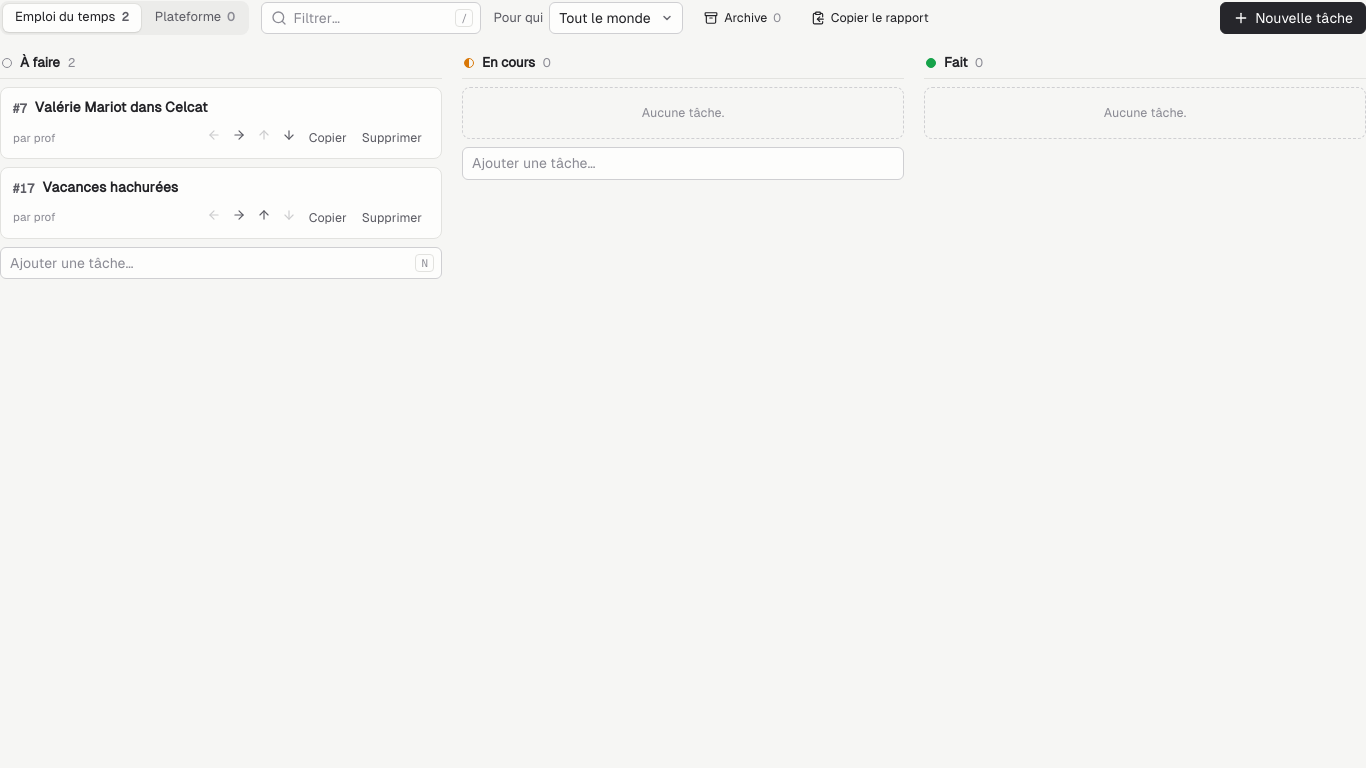
it: KanbanView › shows the task number on each card and finds a card by #number
The image size is (1366, 768).
Check: the button "Valérie Mariot dans Celcat" is shown, box x1=35 y1=98 x2=429 y2=117
Check: the text named "Tâche numéro 7" reads "#7", box x1=13 y1=98 x2=27 y2=120
Type "#7" into the search field named "Filtrer les tâches" at (372, 18), box x1=262 y1=2 x2=482 y2=34
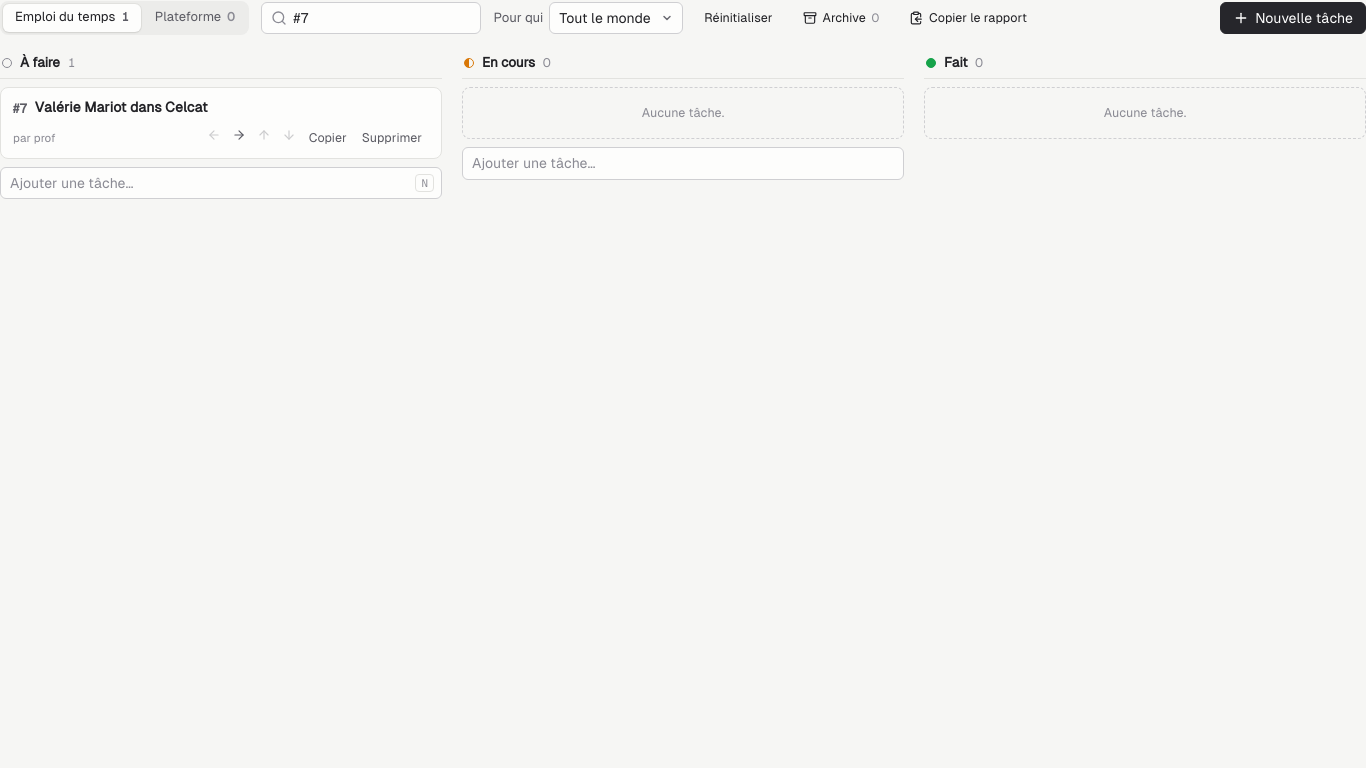
Check: the button "Valérie Mariot dans Celcat" is shown, box x1=35 y1=98 x2=429 y2=117
Check: the button "Vacances hachurées" is gone
Clear the search field named "Filtrer les tâches" at (372, 18), box x1=262 y1=2 x2=482 y2=34
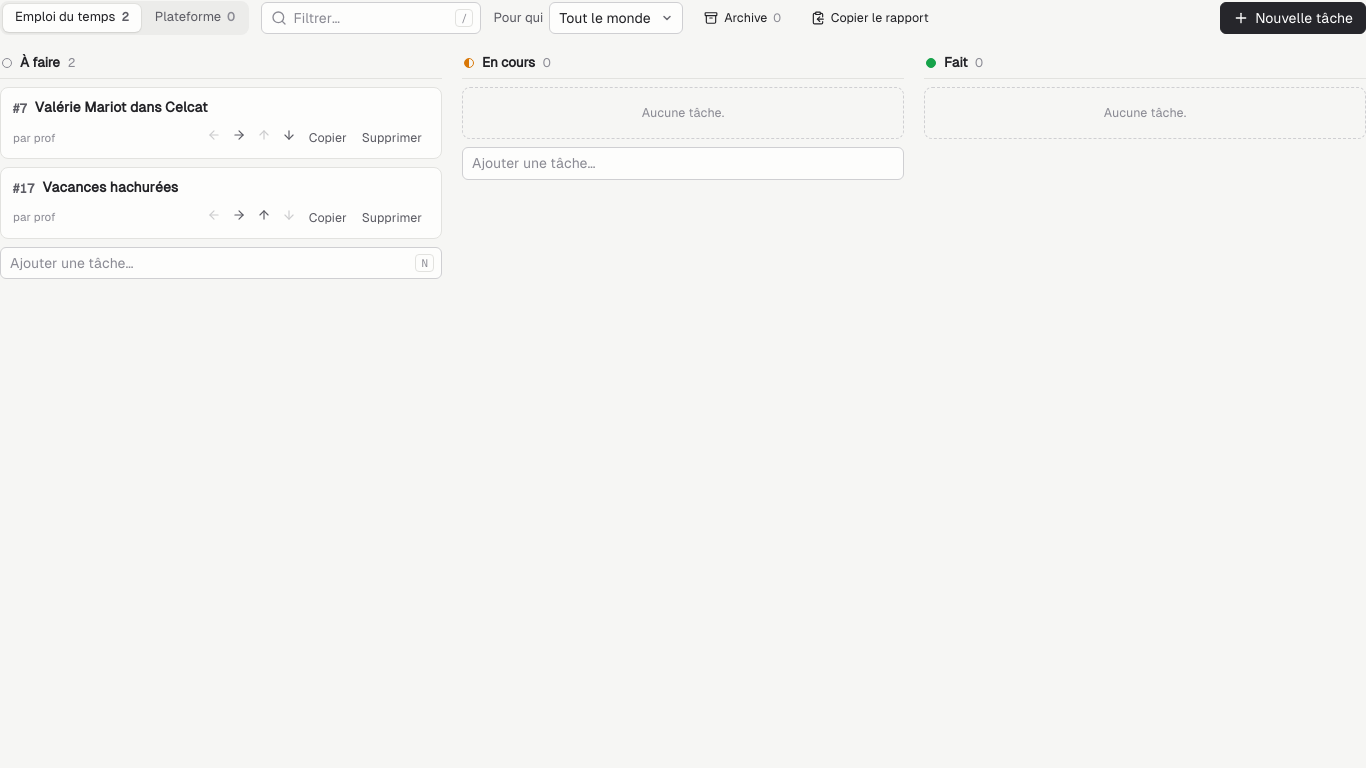
Click the button with aria-label "Modifier « Vacances hachurées »" at (110, 187), box x1=42 y1=178 x2=429 y2=197
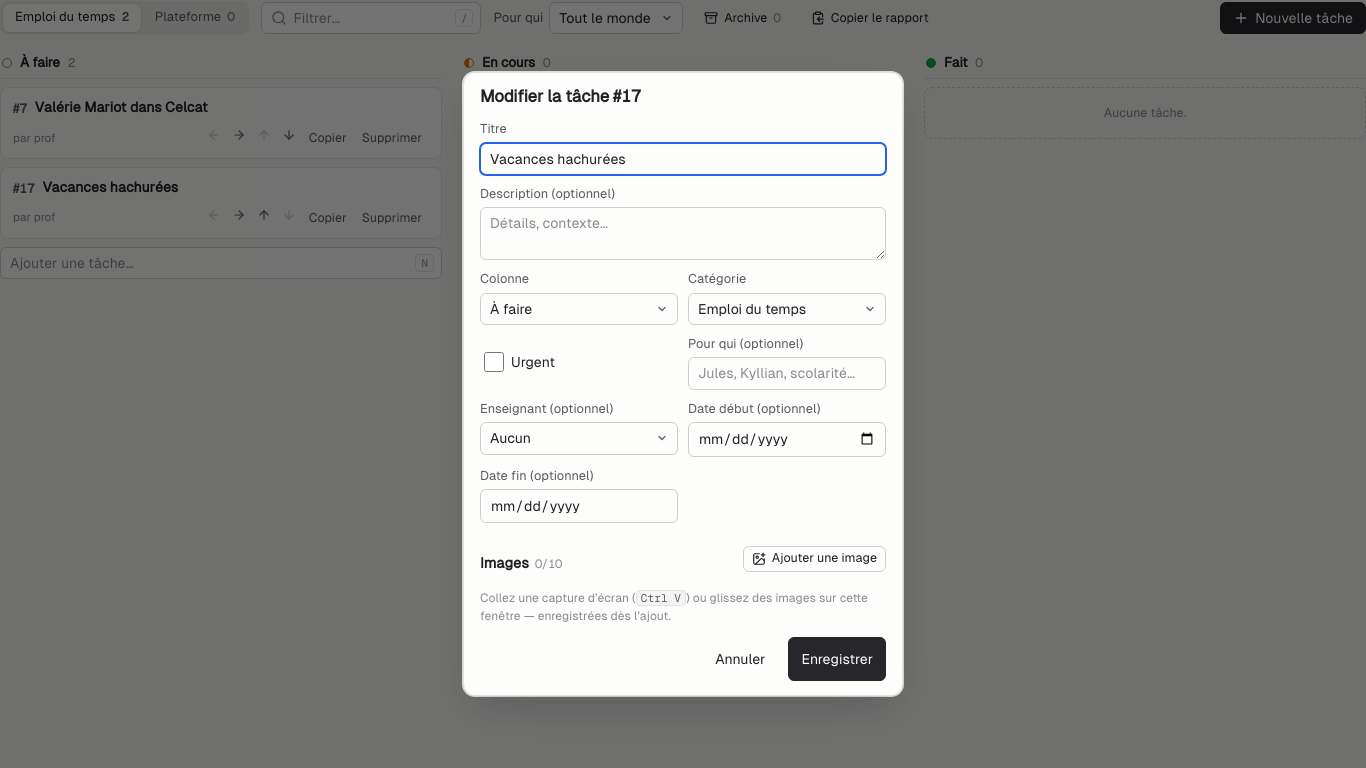
Check: the heading "Modifier la tâche #17" is shown, box x1=480 y1=87 x2=641 y2=106
